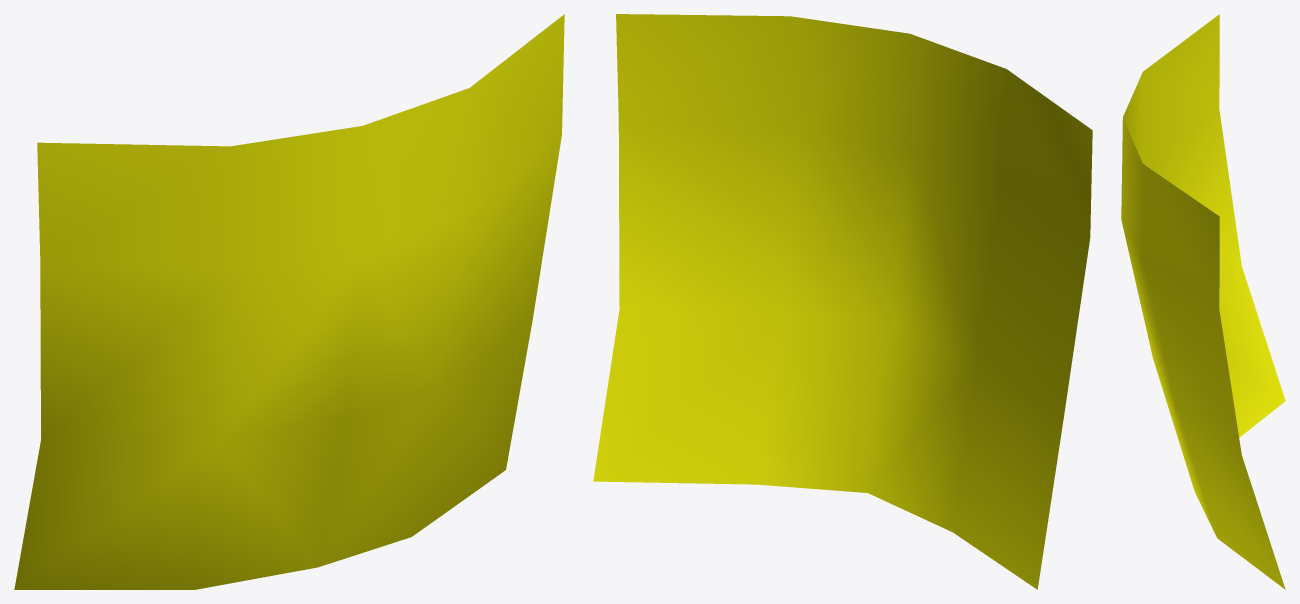
File: Glass9Model.glb
The picture shows the model from 3 angles, left to right: view 1: azimuth 30°, elevation 25°; view 2: azimuth 150°, elevation 25°; view 3: azimuth 270°, elevation 25°; orthographic projection. The views are drawn at different scales.
Parts seen in each view (by area): view 1: char_glass2; view 2: char_glass2; view 3: char_glass2.
Part boxes in pixels (left/top/right/bottom): char_glass2: left=14, top=14, right=564, bottom=589; char_glass2: left=593, top=14, right=1092, bottom=589; char_glass2: left=1121, top=14, right=1285, bottom=589.
Bounding box in the file's own units: 0.2122 × 0.1861 × 0.0728.
1 material, 1 textured.
